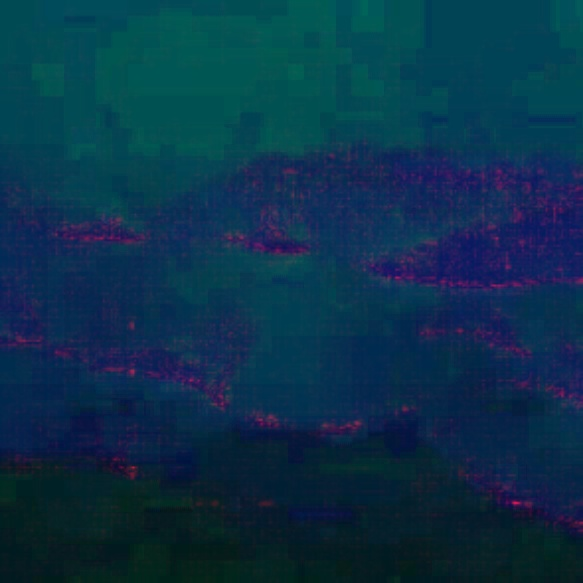rip_current: (187, 162, 384, 445)
